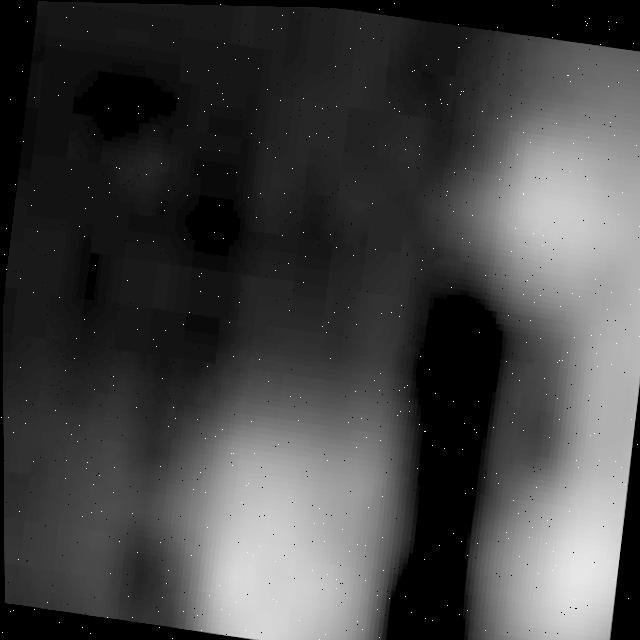person: (426, 28, 640, 640), (161, 382, 400, 640)
